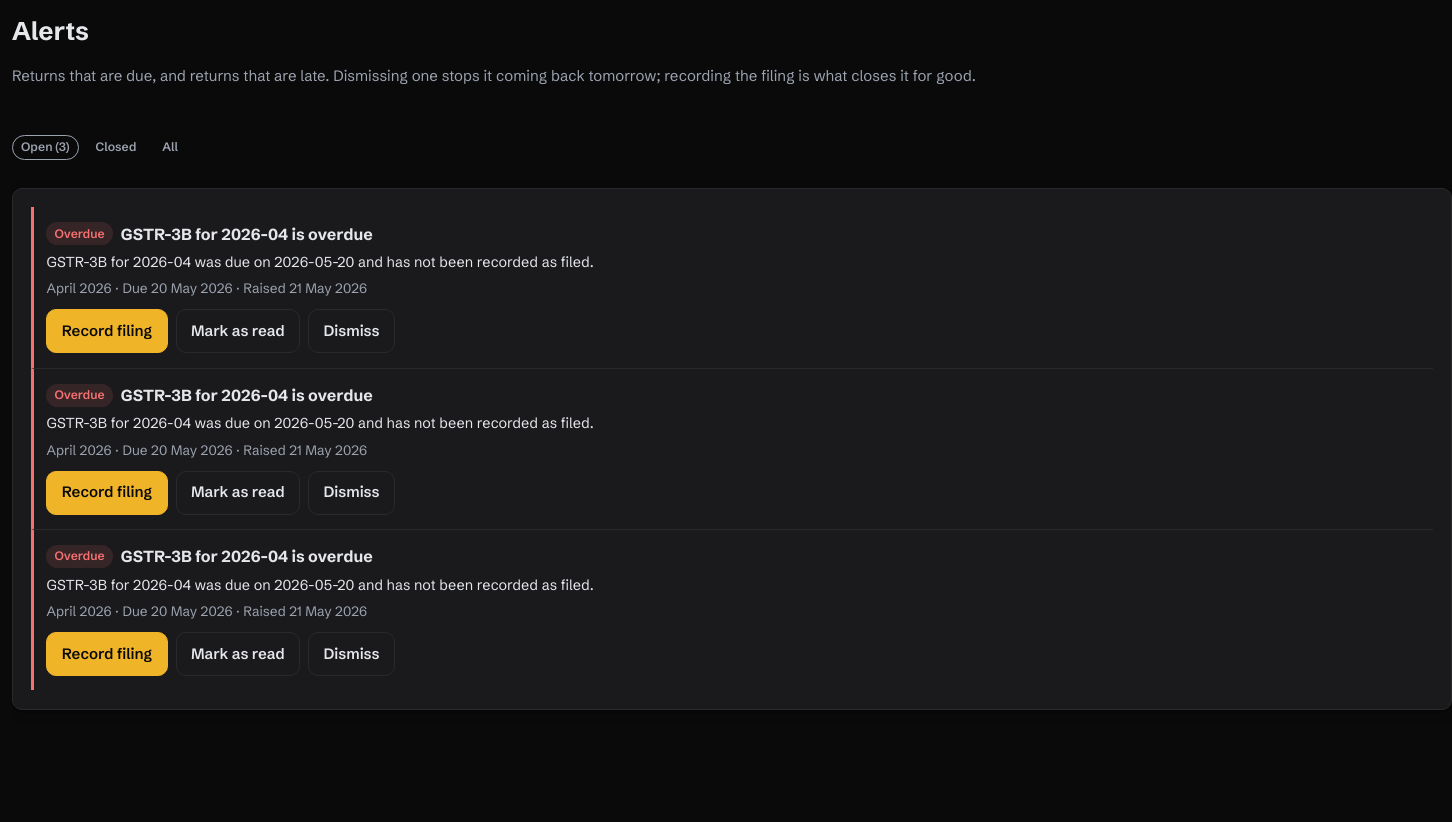
Test: AlertsPage › does not let a re-enabled row take the same alert off the count twice
Expected: the button "Open (3)" is shown, [12,135,79,160]
Click the 1st button "Dismiss" at (352, 331), box [308,309,395,353]
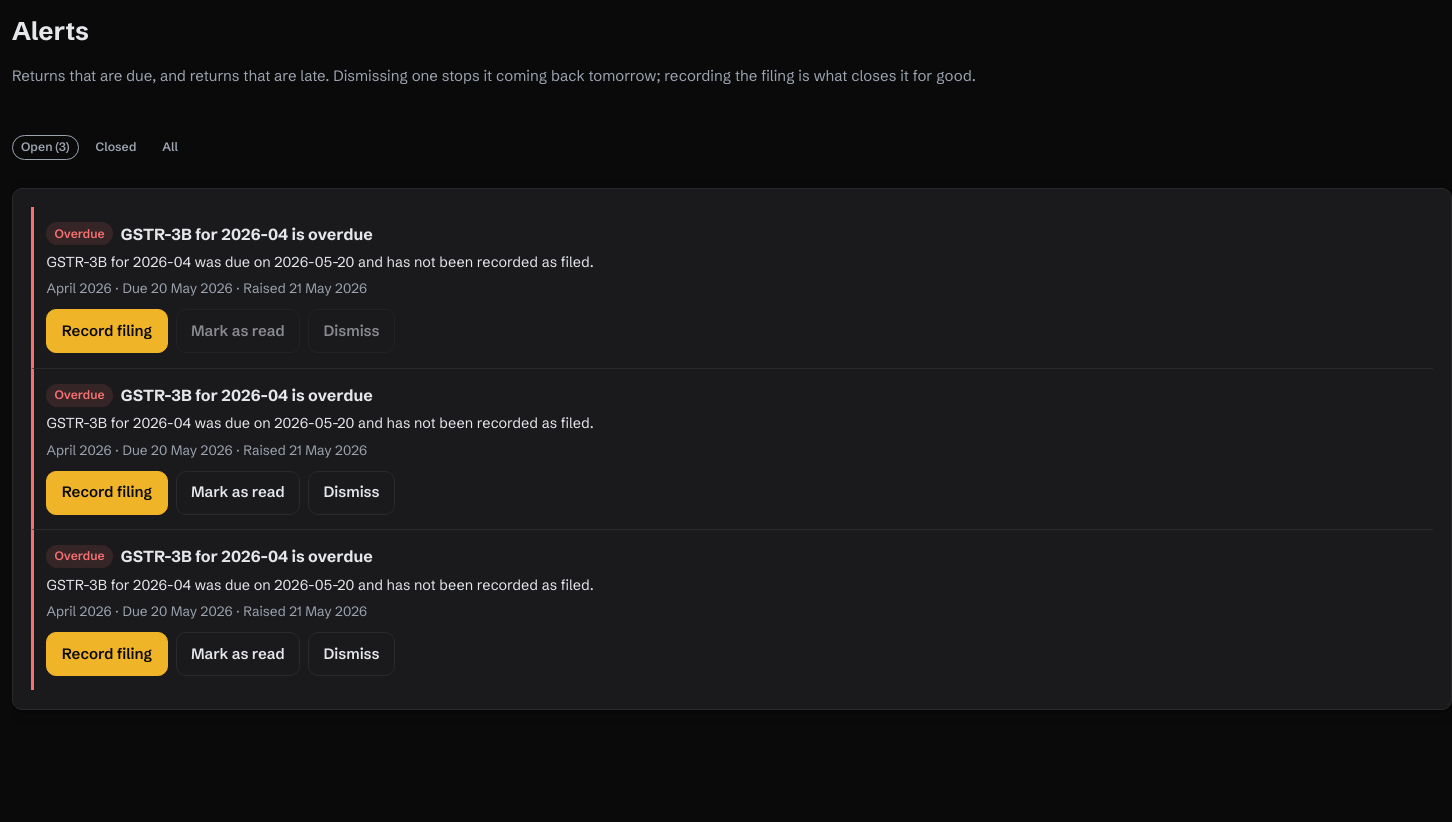
Click the 2nd button "Dismiss" at (352, 493), box [308,471,395,515]
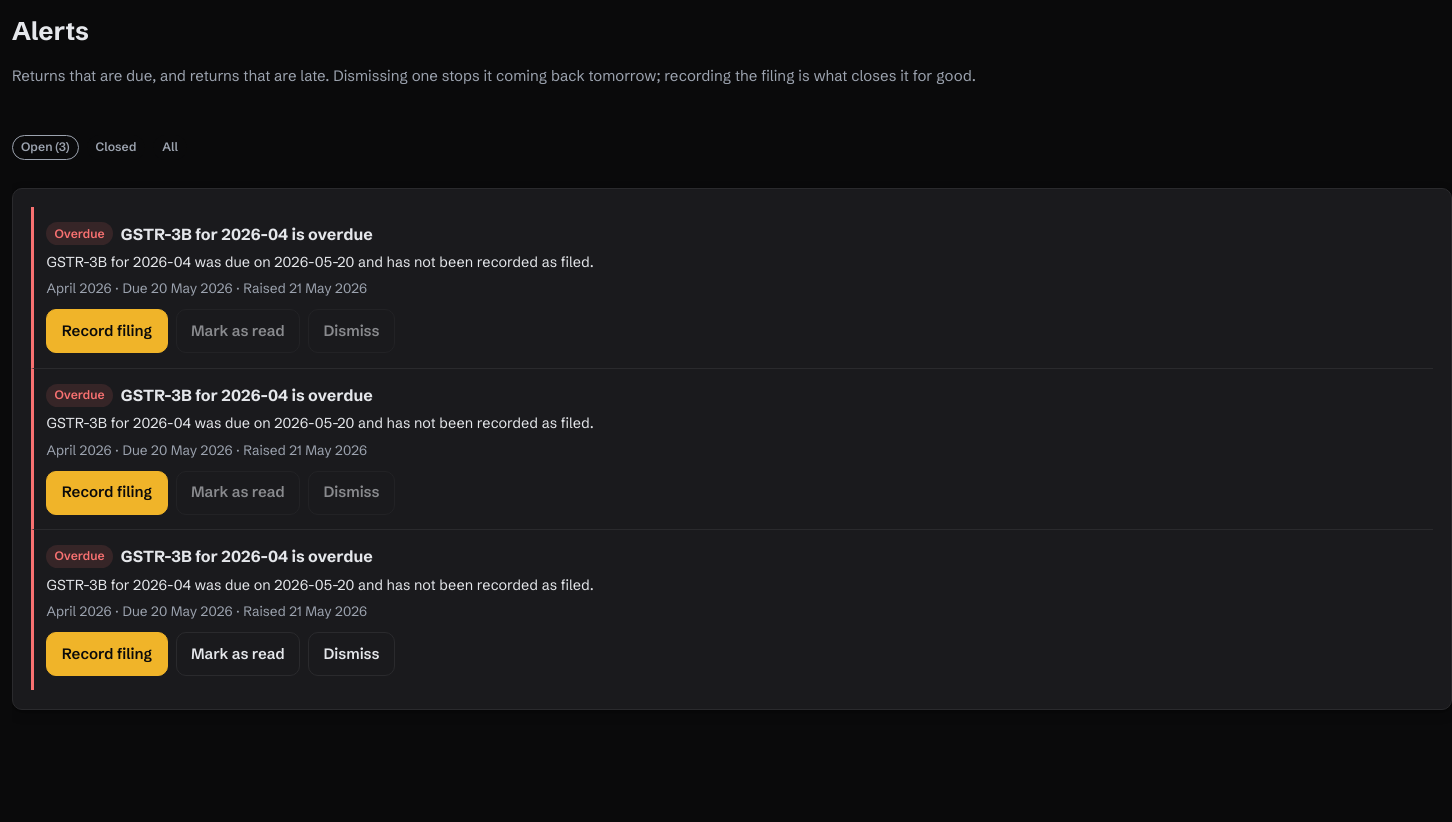
Click the 1st button "Dismiss" at (352, 331), box [308,309,395,353]
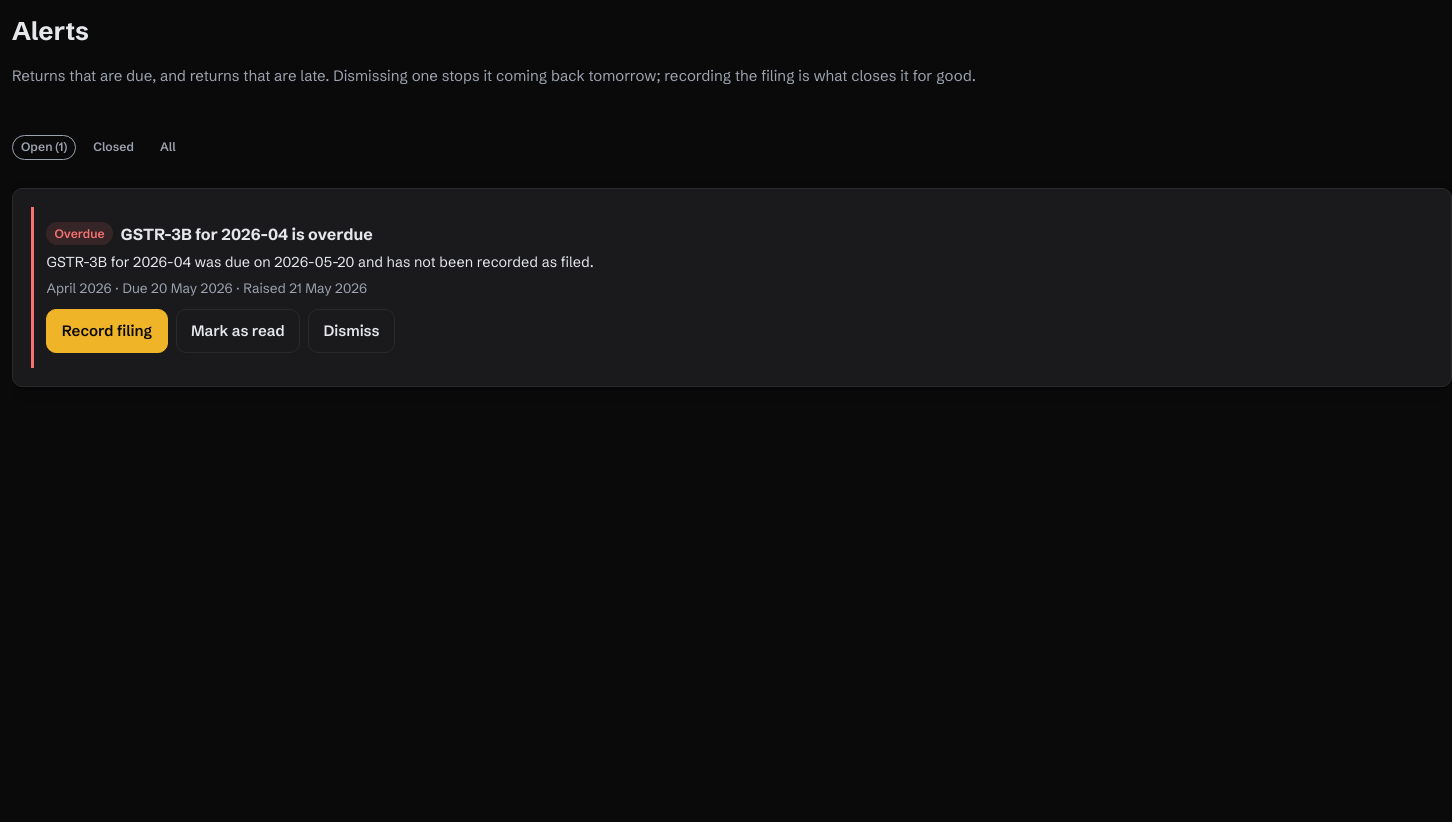
Result: the button "Open (1)" is shown at [12,135,76,160]
